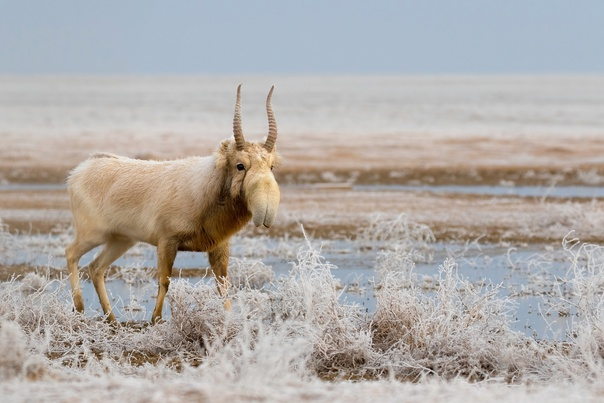saiga: (66, 80, 282, 338)
